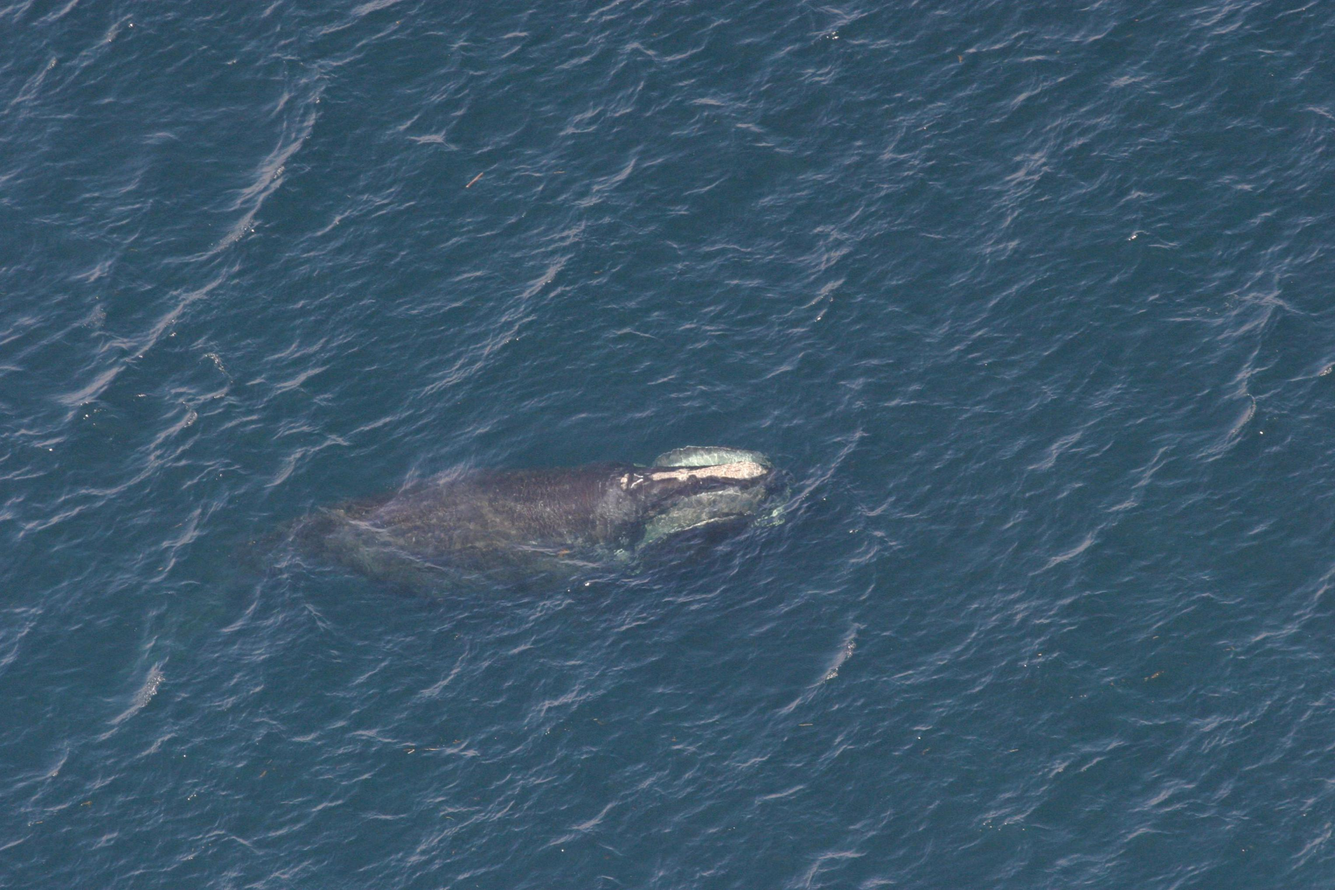whale: (180, 440, 795, 670)
